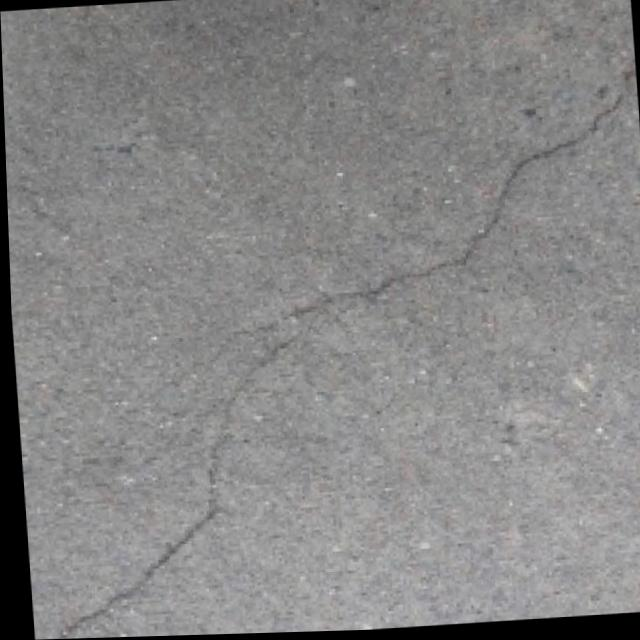Crack: (2, 54, 640, 640)
